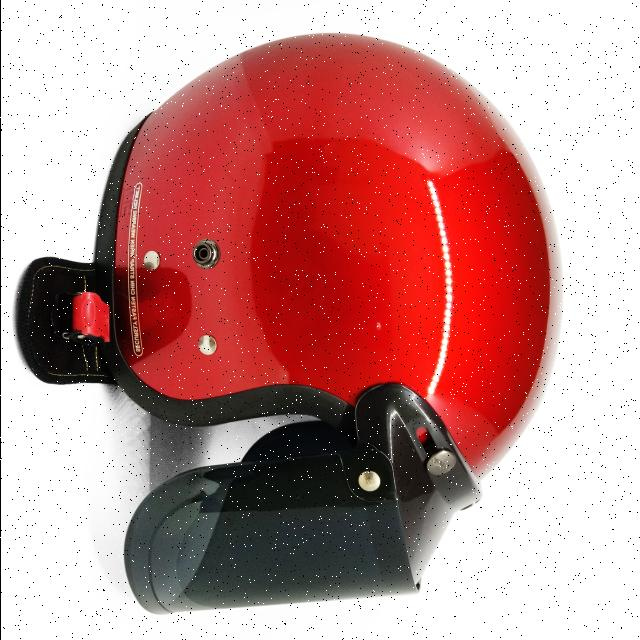Helmet: (12, 31, 561, 612)
